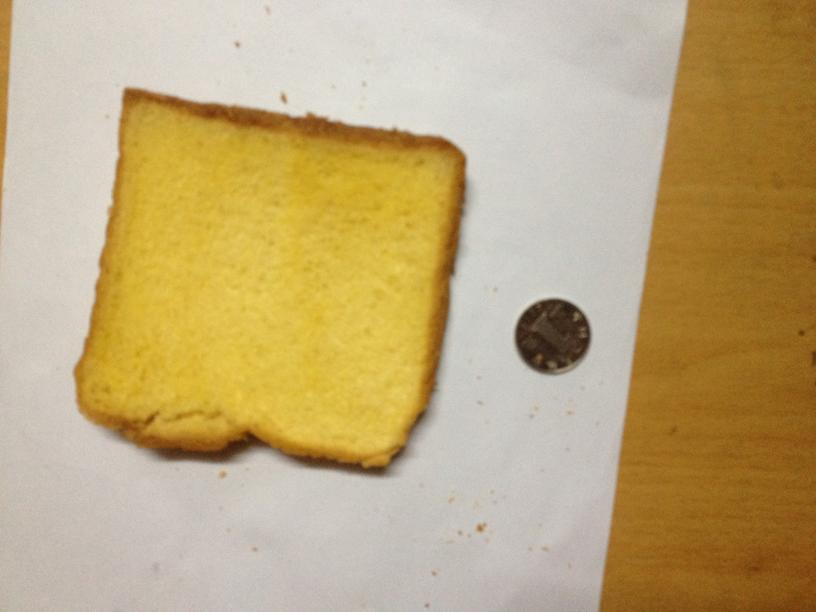bread: (75, 80, 468, 467)
coin: (509, 292, 589, 377)
